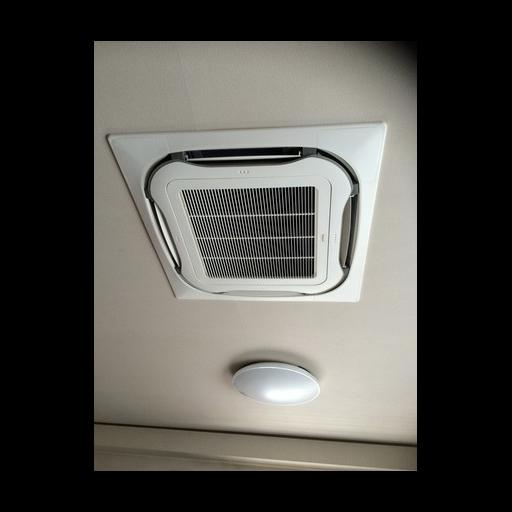4-way-ac: (104, 122, 386, 303)
